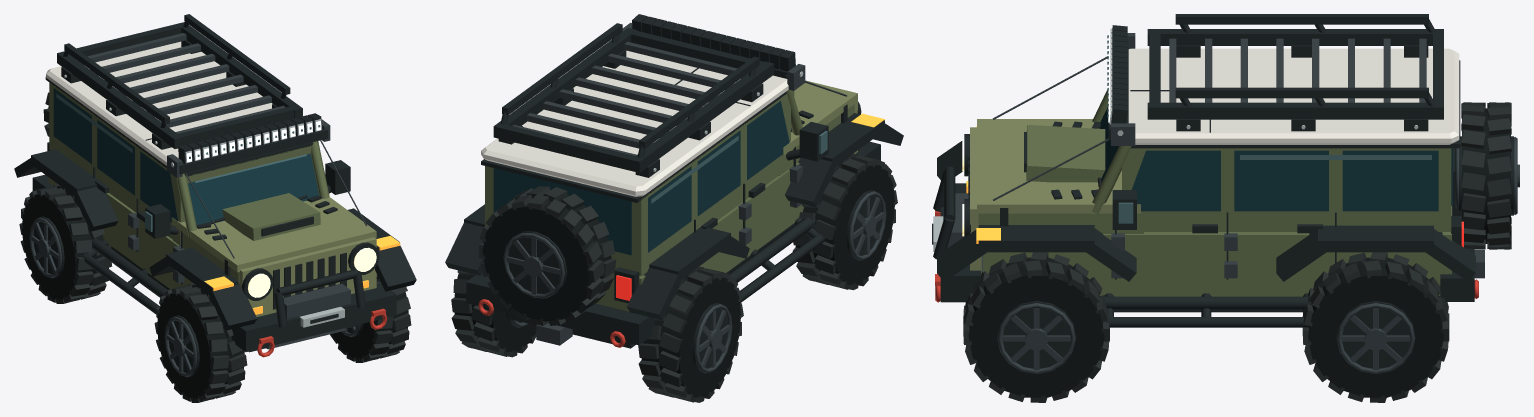
The model's file is mark-jeep.glb.
3 views of the same model, side by side, from view 1: azimuth 30°, elevation 25°; view 2: azimuth 150°, elevation 25°; view 3: azimuth 270°, elevation 25° (orthographic). The views are drawn at different scales.
Parts seen in each view (by area): view 1: Marks_Olive_Wrangler_black, Marks_Olive_Wrangler_olive, Marks_Olive_Wrangler_glass, Marks_Olive_Wrangler_metal, Marks_Olive_Wrangler_oliveLight, Marks_Olive_Wrangler_whiteShell, Front_Left_Wheel_tread, Front_Left_Wheel_rubber, Rear_Left_Wheel_rubber, Rear_Left_Wheel_tread, Front_Right_Wheel_tread, Marks_Olive_Wrangler_silver (+10 smaller); view 2: Marks_Olive_Wrangler_black, Marks_Olive_Wrangler_whiteShell, Marks_Olive_Wrangler_olive, Marks_Olive_Wrangler_glass, Marks_Olive_Wrangler_metal, Full_Size_Rear_Spare_rubber, Full_Size_Rear_Spare_tread, Rear_Left_Wheel_tread, Rear_Left_Wheel_rubber, Front_Left_Wheel_rubber, Front_Left_Wheel_tread, Rear_Right_Wheel_tread (+9 smaller); view 3: Marks_Olive_Wrangler_black, Marks_Olive_Wrangler_olive, Marks_Olive_Wrangler_whiteShell, Marks_Olive_Wrangler_glass, Front_Right_Wheel_rubber, Rear_Right_Wheel_rubber, Marks_Olive_Wrangler_oliveLight, Marks_Olive_Wrangler_metal, Full_Size_Rear_Spare_tread, Rear_Right_Wheel_tread, Front_Right_Wheel_tread, Front_Right_Wheel_metal (+7 smaller).
Boxes of the visible parts, left/top/right/bottom form: Marks_Olive_Wrangler_black: left=14, top=14, right=416, bottom=352; Marks_Olive_Wrangler_olive: left=48, top=82, right=329, bottom=289; Marks_Olive_Wrangler_glass: left=53, top=88, right=319, bottom=226; Marks_Olive_Wrangler_metal: left=76, top=33, right=366, bottom=349; Marks_Olive_Wrangler_oliveLight: left=171, top=197, right=376, bottom=316; Marks_Olive_Wrangler_whiteShell: left=46, top=41, right=272, bottom=165; Front_Left_Wheel_tread: left=154, top=283, right=247, bottom=402; Front_Left_Wheel_rubber: left=157, top=293, right=244, bottom=398; Rear_Left_Wheel_rubber: left=22, top=194, right=108, bottom=299; Rear_Left_Wheel_tread: left=19, top=184, right=112, bottom=303; Front_Right_Wheel_tread: left=330, top=274, right=411, bottom=362; Marks_Olive_Wrangler_silver: left=64, top=74, right=344, bottom=327; Marks_Olive_Wrangler_black: left=445, top=14, right=903, bottom=348; Marks_Olive_Wrangler_whiteShell: left=481, top=50, right=788, bottom=196; Marks_Olive_Wrangler_olive: left=485, top=90, right=854, bottom=311; Marks_Olive_Wrangler_glass: left=493, top=101, right=791, bottom=255; Marks_Olive_Wrangler_metal: left=512, top=22, right=847, bottom=345; Full_Size_Rear_Spare_rubber: left=482, top=195, right=611, bottom=321; Full_Size_Rear_Spare_tread: left=478, top=186, right=616, bottom=325; Rear_Left_Wheel_tread: left=638, top=266, right=743, bottom=402; Rear_Left_Wheel_rubber: left=641, top=277, right=740, bottom=397; Front_Left_Wheel_rubber: left=795, top=165, right=894, bottom=284; Front_Left_Wheel_tread: left=792, top=153, right=897, bottom=290; Rear_Right_Wheel_tread: left=451, top=270, right=536, bottom=357; Marks_Olive_Wrangler_black: left=932, top=14, right=1475, bottom=327; Marks_Olive_Wrangler_olive: left=978, top=90, right=1451, bottom=296; Marks_Olive_Wrangler_whiteShell: left=1128, top=48, right=1459, bottom=144; Marks_Olive_Wrangler_glass: left=1100, top=107, right=1452, bottom=211; Front_Right_Wheel_rubber: left=968, top=257, right=1104, bottom=397; Rear_Right_Wheel_rubber: left=1308, top=257, right=1443, bottom=397; Marks_Olive_Wrangler_oliveLight: left=970, top=119, right=1140, bottom=273; Marks_Olive_Wrangler_metal: left=947, top=33, right=1484, bottom=278; Full_Size_Rear_Spare_tread: left=1461, top=102, right=1511, bottom=249; Rear_Right_Wheel_tread: left=1302, top=252, right=1449, bottom=402; Front_Right_Wheel_tread: left=963, top=252, right=1109, bottom=402; Front_Right_Wheel_metal: left=997, top=303, right=1075, bottom=373.
Size of the model in its own units: 2.73 by 2.87 by 5.27.
